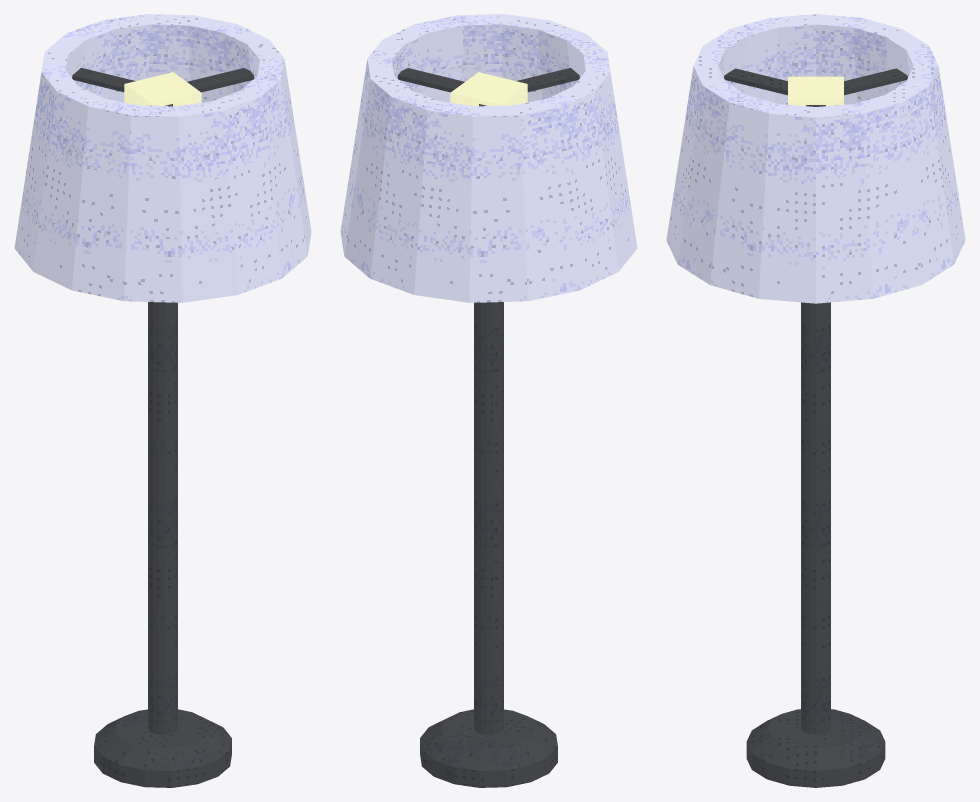
The model's file is lampShade.glb.
3 views of the same model, side by side, from view 1: azimuth 30°, elevation 25°; view 2: azimuth 150°, elevation 25°; view 3: azimuth 270°, elevation 25° (orthographic).
Parts seen in each view (by area): view 1: Cylinder.001, Cylinder, Cube, Cylinder.002; view 2: Cylinder.001, Cylinder, Cube, Cylinder.002; view 3: Cylinder.001, Cylinder, Cylinder.002, Cube.
Part boxes in pixels (bbox=[...]): Cylinder.001: bbox=[14, 14, 311, 302]; Cylinder: bbox=[94, 302, 231, 787]; Cube: bbox=[124, 72, 201, 106]; Cylinder.002: bbox=[72, 67, 254, 106]; Cylinder.001: bbox=[340, 14, 637, 302]; Cylinder: bbox=[420, 302, 557, 787]; Cube: bbox=[450, 72, 527, 106]; Cylinder.002: bbox=[397, 67, 579, 106]; Cylinder.001: bbox=[666, 14, 965, 303]; Cylinder: bbox=[746, 302, 885, 787]; Cylinder.002: bbox=[724, 68, 907, 106]; Cube: bbox=[788, 76, 843, 106].
Size of the model in its own units: 0.3695 by 0.9436 by 0.3695.
Materials: 3 (2 with a texture image).
